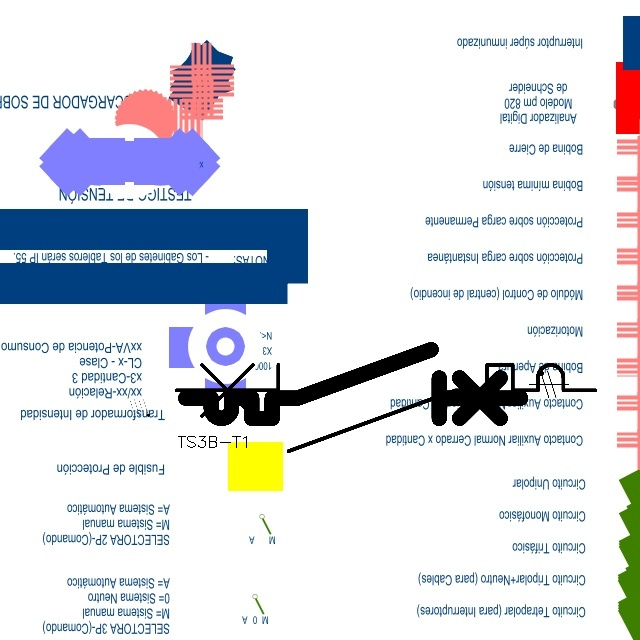interruptor_termomagnetico: (165, 354, 605, 461), (177, 341, 529, 427)
